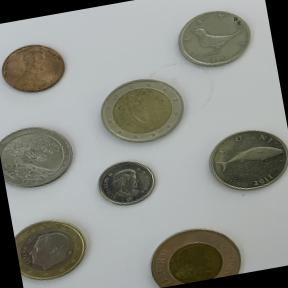coin: (88, 67, 192, 154), (137, 213, 249, 288), (196, 117, 288, 202), (12, 210, 97, 287), (0, 115, 79, 193), (0, 36, 72, 102), (90, 150, 162, 212)
